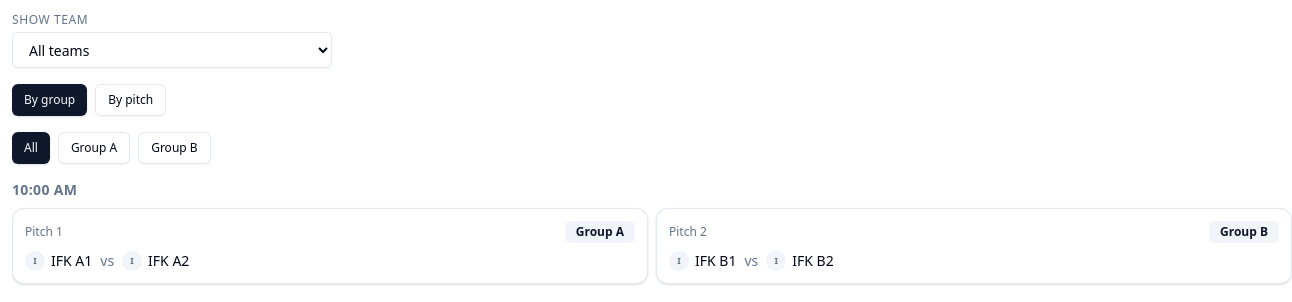
Test: PublicScheduleView › renders matches grouped by slot and the Group A filter narrows the list
Expected: the text "IFK A1" is shown, [51, 251, 92, 270]
Expected: the text "IFK B1" is shown, [695, 251, 736, 270]
Click the button "Group A": point(94, 148) [58, 132, 130, 164]
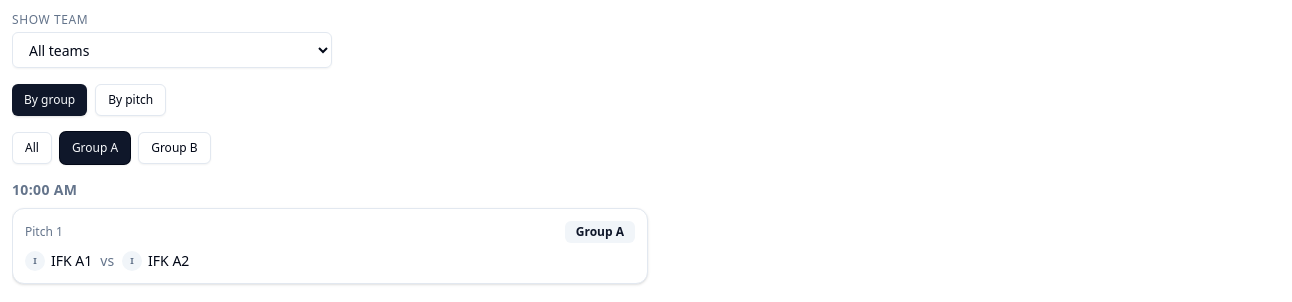
Expected: the text "IFK A1" is shown, [51, 251, 92, 270]
Result: the text "IFK B1" is gone
